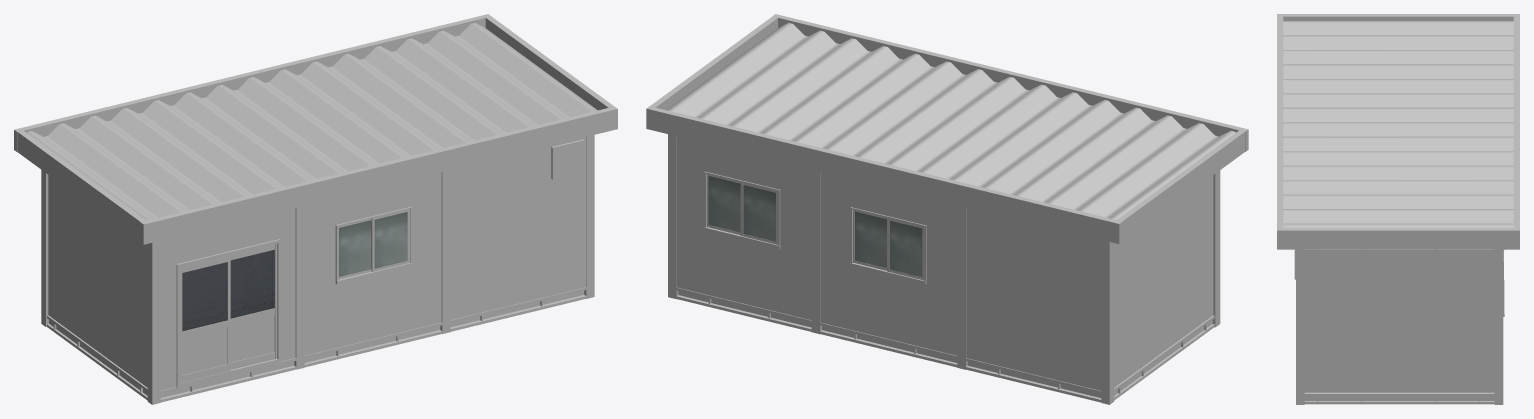
File: Bil_PrefabUnit02a.fbx
The picture shows the model from 3 angles, left to right: view 1: azimuth 30°, elevation 25°; view 2: azimuth 150°, elevation 25°; view 3: azimuth 270°, elevation 25°; orthographic projection. The views are drawn at different scales.
Parts seen in each view (by area): view 1: Bil_PrefabUnit02a; view 2: Bil_PrefabUnit02a; view 3: Bil_PrefabUnit02a.
Part boxes in pixels (<box>): Bil_PrefabUnit02a: <box>14,14,617,404</box>; Bil_PrefabUnit02a: <box>646,14,1248,404</box>; Bil_PrefabUnit02a: <box>1277,14,1519,404</box>.
Bounding box in the file's own units: 9.93 × 3.85 × 4.7.
